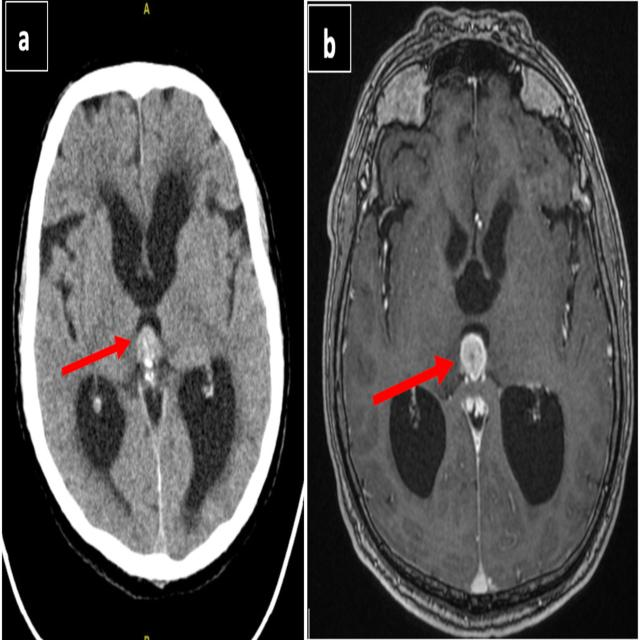Tumor: (137, 328, 164, 388), (460, 335, 490, 382)
